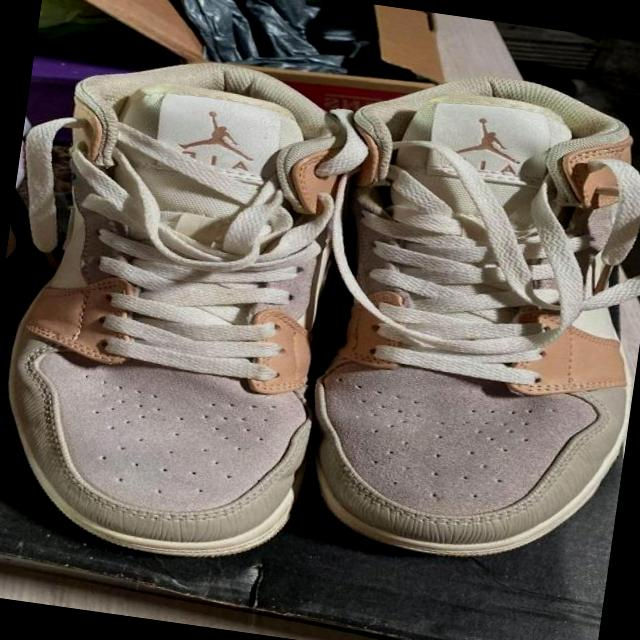nike_fake_jordan: (0, 41, 370, 577), (293, 58, 640, 579)
